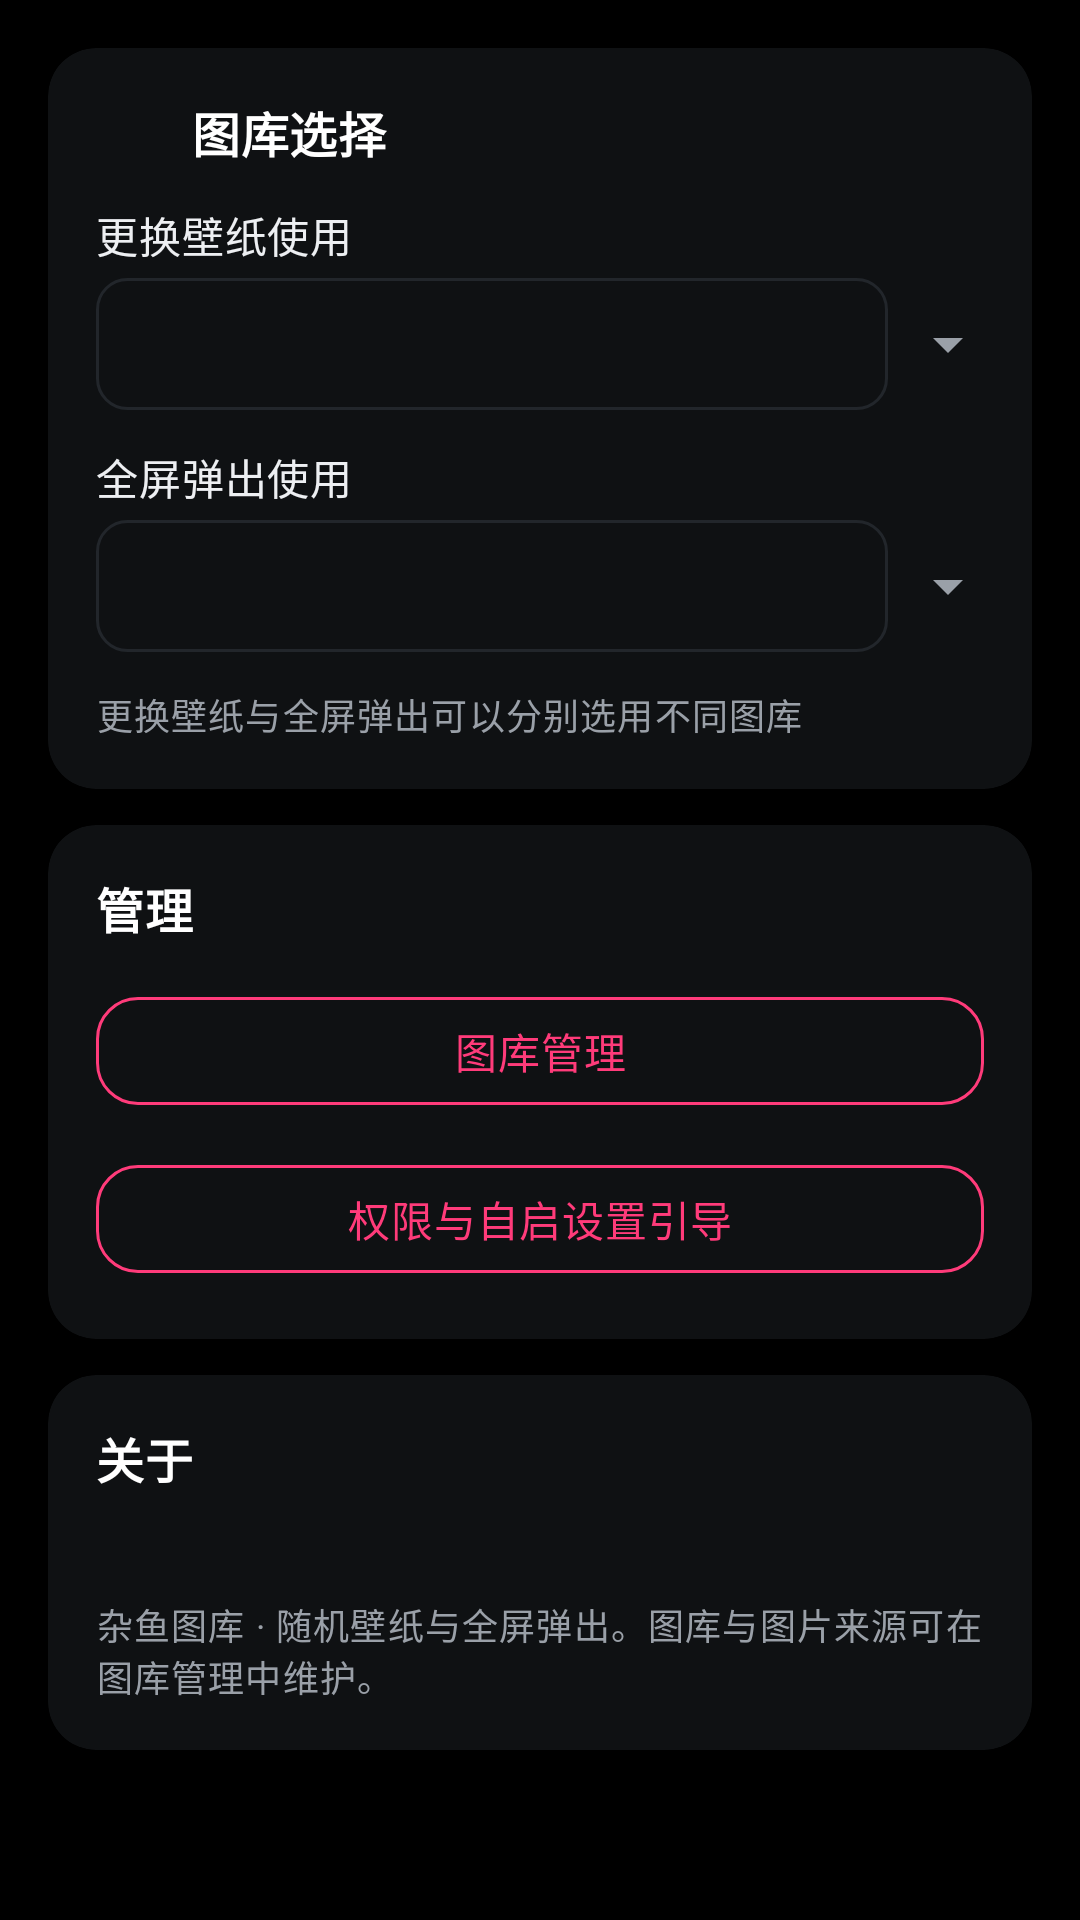

Icon bounding boxes for this 1080*1920 phone screenshot, format bbox=[x1, y1, x2, y2]:
arrow drop down: bbox=[933, 338, 963, 353], bbox=[933, 580, 963, 595]
